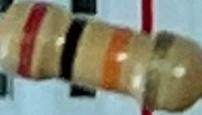Black: (55, 15, 93, 83)
Orange: (96, 26, 138, 93)
Red: (11, 3, 54, 82)
Side-Gold: (133, 34, 179, 111)
